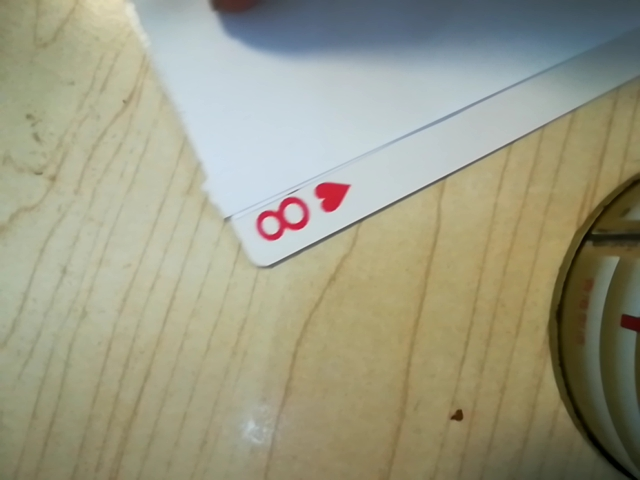hx 8: (246, 176, 350, 258)
